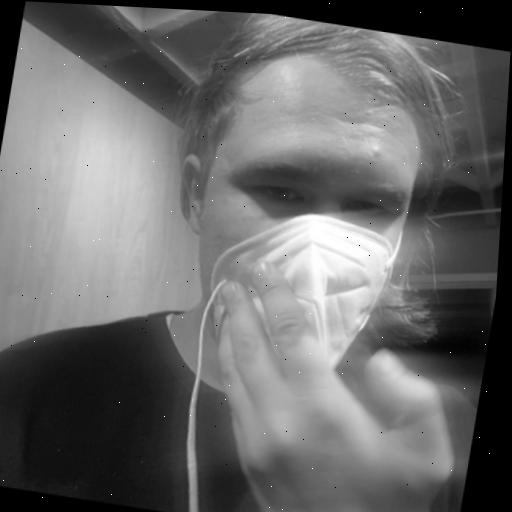mask: (123, 18, 446, 416)
